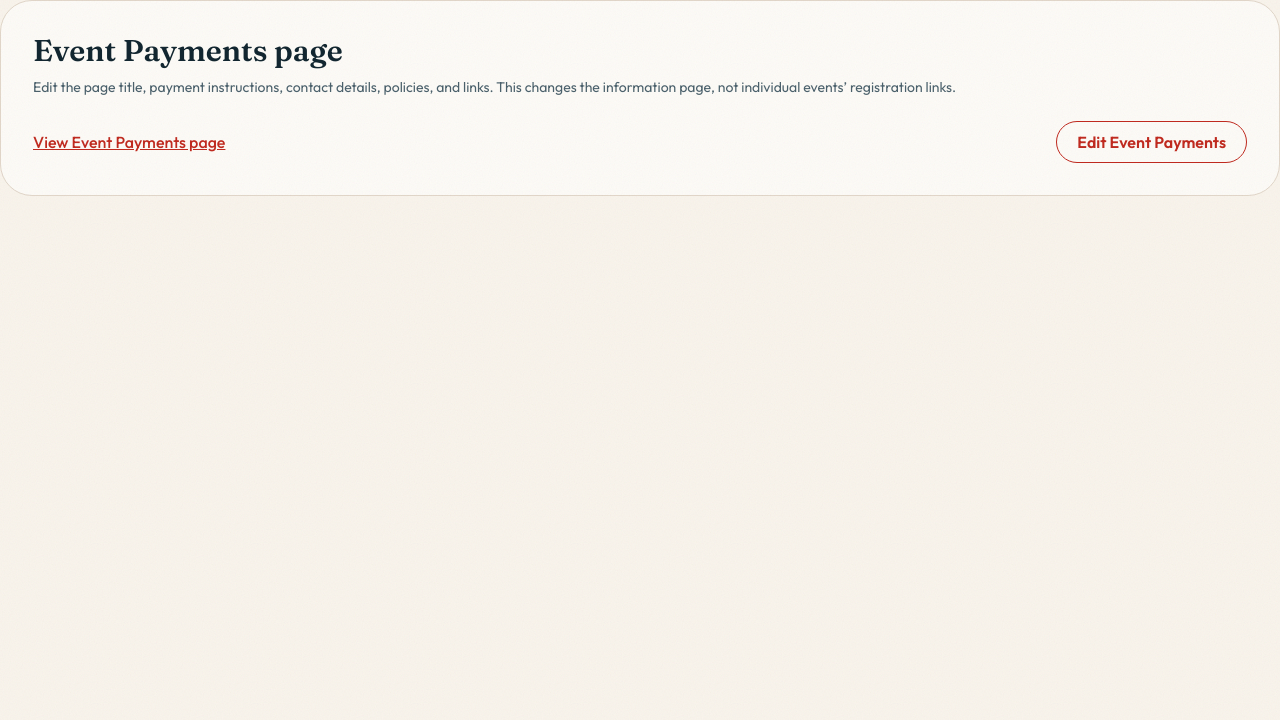
Test: Event Payments editor › keeps edits after a failed save and allows retry
Later steps or results of the test are not shown.
Click the button "Edit Event Payments".
click(1152, 142)  # box [1056, 121, 1247, 163]
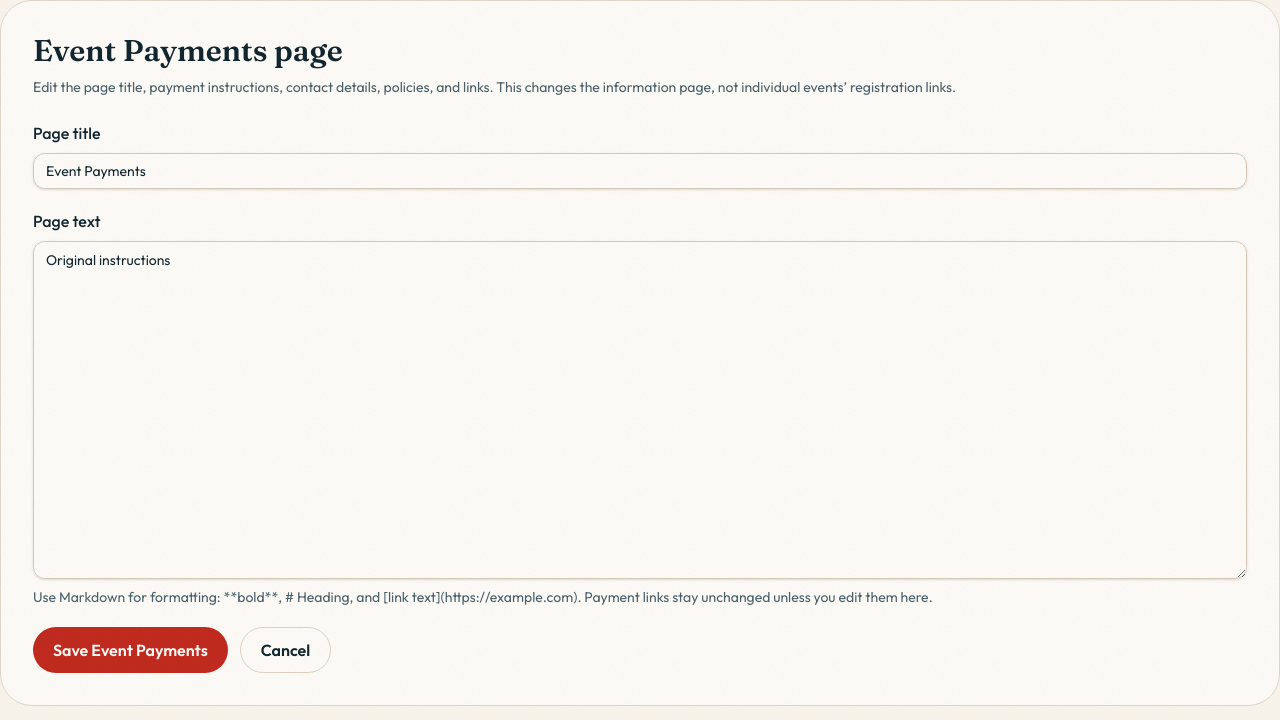
Replace the text in the text box labelled "Page text" with "Keep these edits" at x=640, y=410, box [33, 241, 1247, 579]
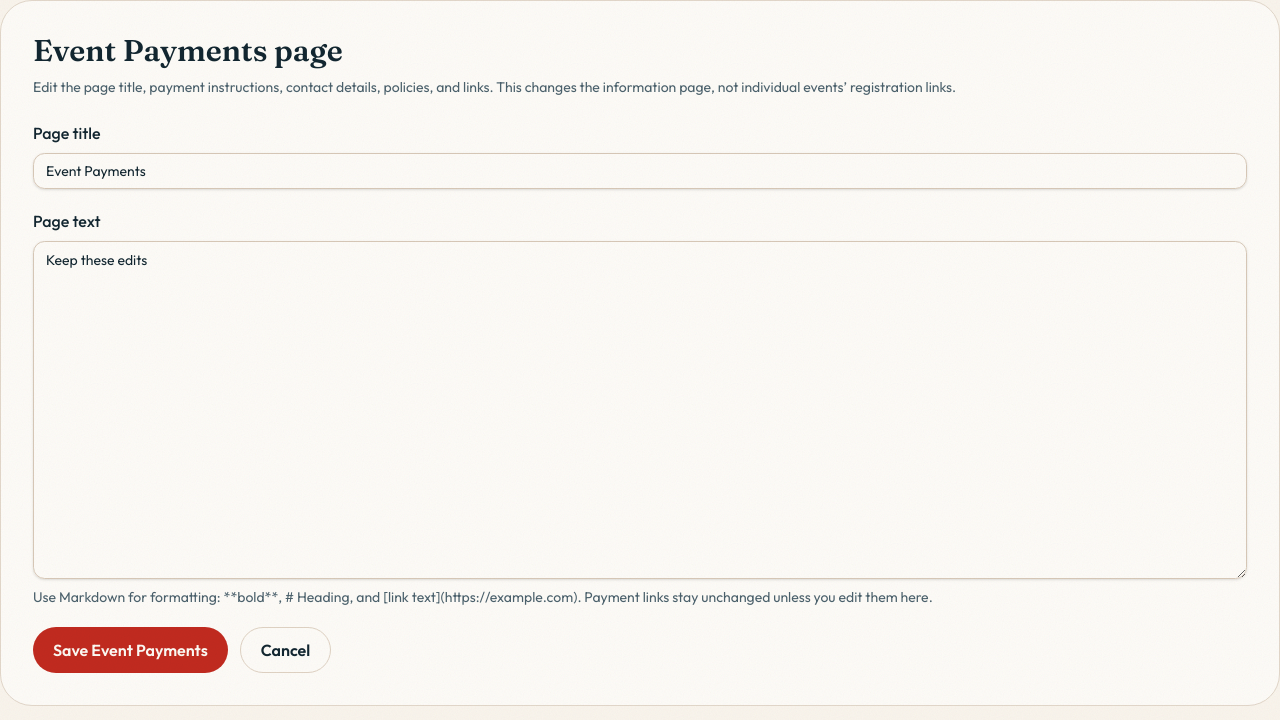
Click the button "Save Event Payments".
click(130, 650)  # box [33, 627, 228, 673]
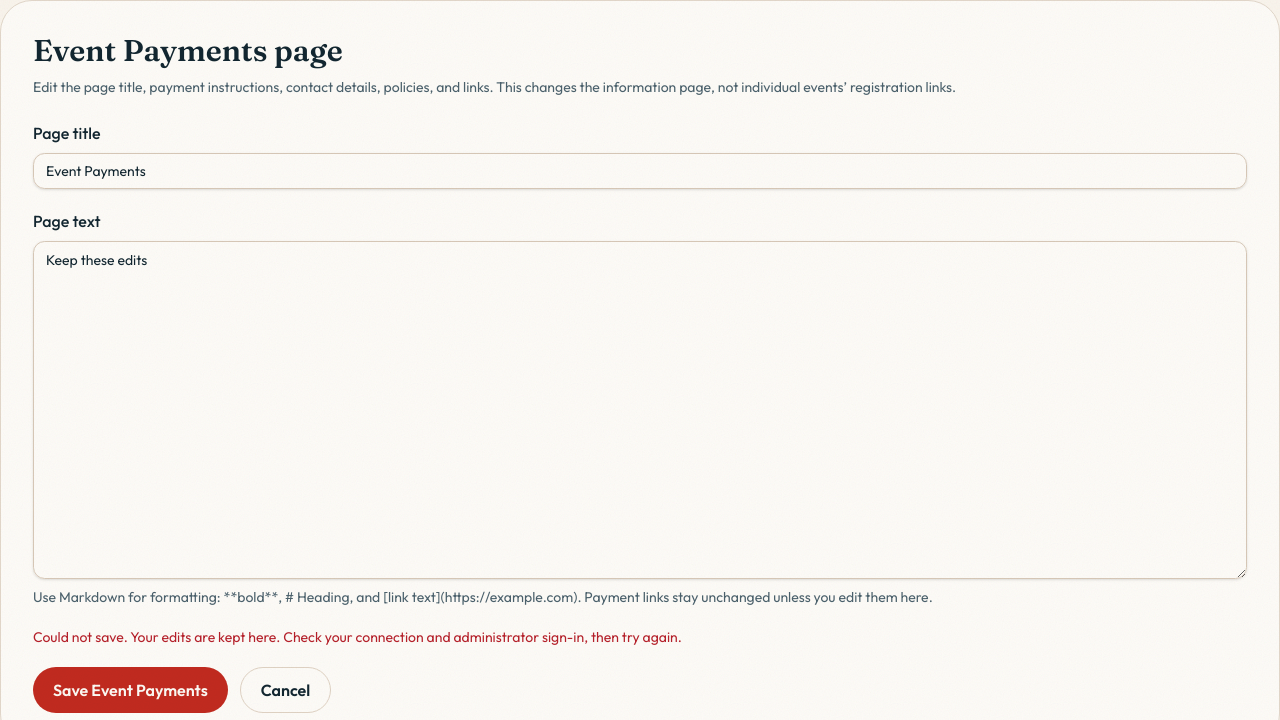
Expected: the message shows "Your edits are kept", [33, 628, 682, 646]
